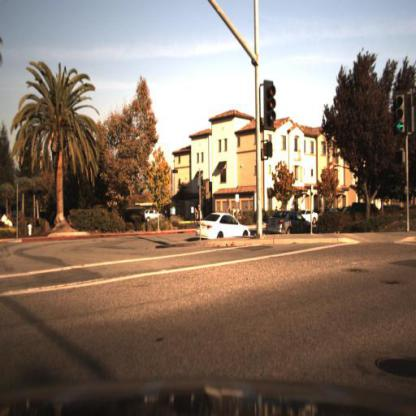car: (193, 212, 255, 243), (263, 210, 312, 236), (145, 206, 170, 226)
pedestrian: (196, 200, 206, 231), (194, 204, 202, 225)
